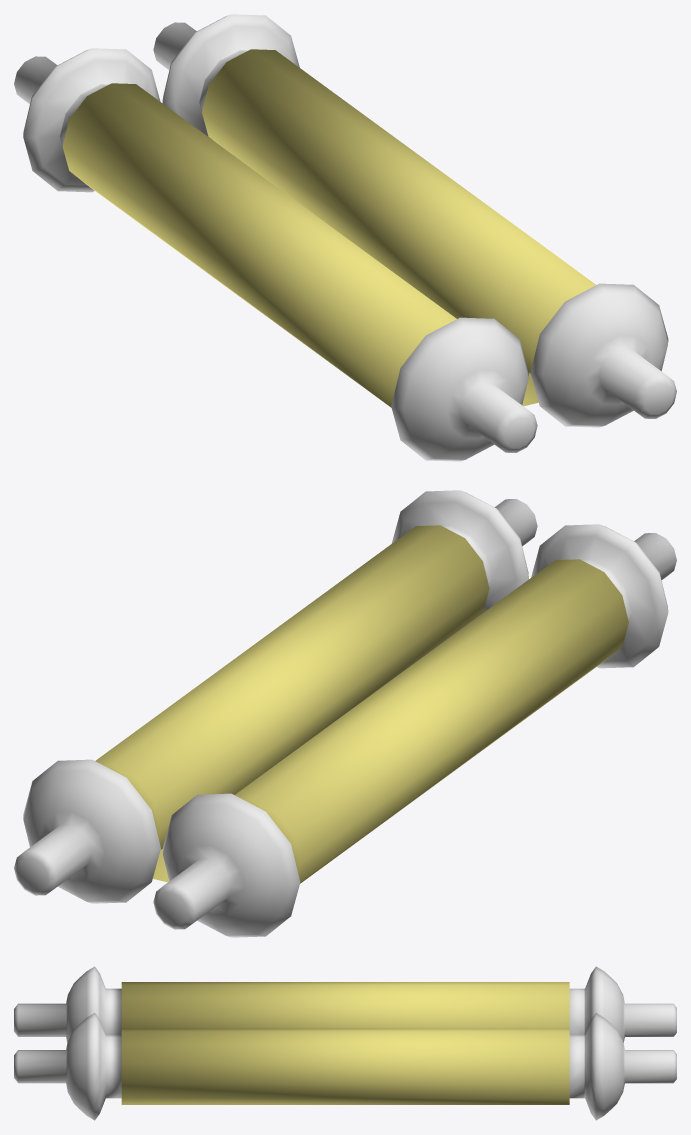
The model's file is Pergamino1.fbx.
3 renders of one model, top to bottom at view 1: azimuth 30°, elevation 25°; view 2: azimuth 150°, elevation 25°; view 3: azimuth 270°, elevation 25°, orthographic. The views are drawn at different scales.
Visible parts, largest first — view 1: Pergamino_1; view 2: Pergamino_1; view 3: Pergamino_1.
Boxes of the visible parts, x1,y1,x2,y2 form: Pergamino_1: (14,14,676,461); Pergamino_1: (14,490,676,937); Pergamino_1: (14,966,676,1120).
Bounding box in the file's own units: 25.8 × 12.83 × 78.47.
